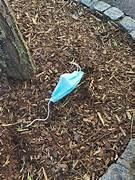Mask: (27, 62, 83, 126), (50, 71, 83, 102)
